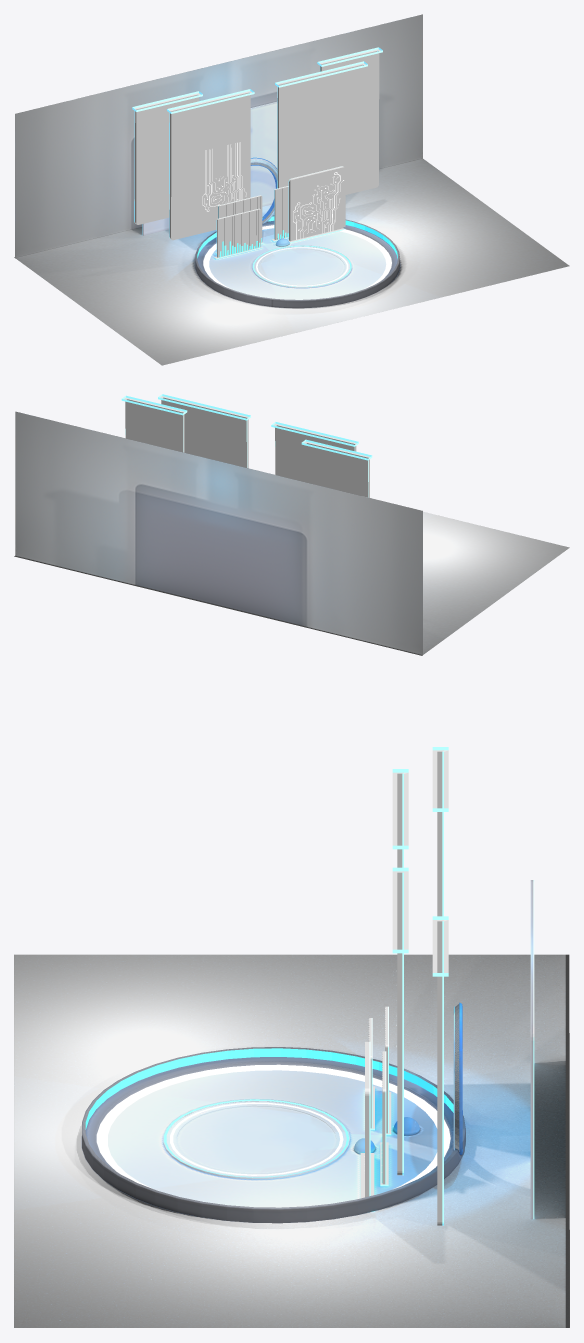
The model's file is blue_Tech.glb.
3 views of the same model, one above another, from view 1: azimuth 30°, elevation 25°; view 2: azimuth 150°, elevation 25°; view 3: azimuth 270°, elevation 25° (orthographic). The views are drawn at different scales.
Visible parts, largest first — view 1: xuanran, floor_di, boli, buhongpei, Obj3d66-19422619-16-83; view 2: xuanran, floor_di, boli, buhongpei; view 3: floor_di, xuanran, buhongpei, boli.
Part boxes in pixels (x1,y1,x2,y2): xuanran: (15,14,422,308); floor_di: (14,158,569,365); boli: (134,49,380,258); buhongpei: (132,47,397,289); Obj3d66-19422619-16-83: (202,142,343,239); xuanran: (15,411,422,654); floor_di: (14,512,569,655); boli: (124,396,369,497); buhongpei: (121,394,372,497); floor_di: (14,954,569,1327); xuanran: (82,880,533,1223); buhongpei: (85,747,534,1225); boli: (360,750,448,1225).
Size of the model in its own units: 18.72 by 7.01 by 11.78.
Materials: 14 (8 with a texture image).
